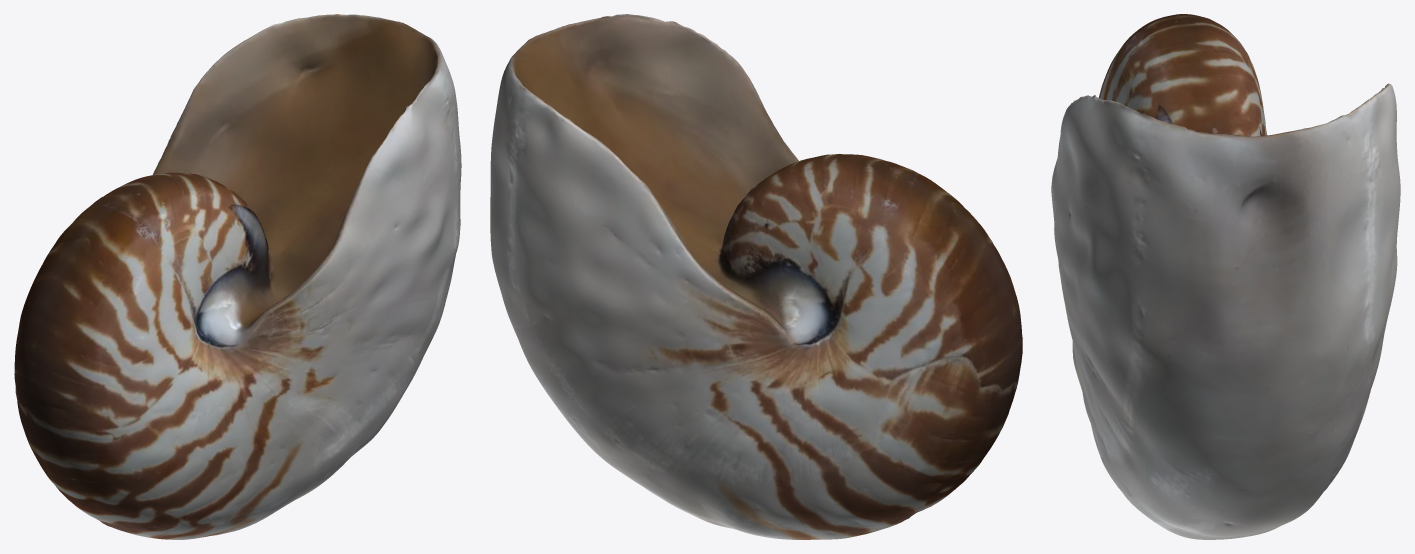
The model's file is nautilo-transformed.glb.
3 views of the same model, side by side, from view 1: azimuth 30°, elevation 25°; view 2: azimuth 150°, elevation 25°; view 3: azimuth 270°, elevation 25° (orthographic). The views are drawn at different scales.
Visible parts, largest first — view 1: Object_2; view 2: Object_2; view 3: Object_2.
Boxes of the visible parts, left/top/right/bottom form: Object_2: left=14, top=14, right=461, bottom=539; Object_2: left=490, top=14, right=1022, bottom=539; Object_2: left=1051, top=14, right=1400, bottom=539.
Size of the model in its own units: 0.1061 by 0.0949 by 0.0583.
Materials: 1 (1 with a texture image).
